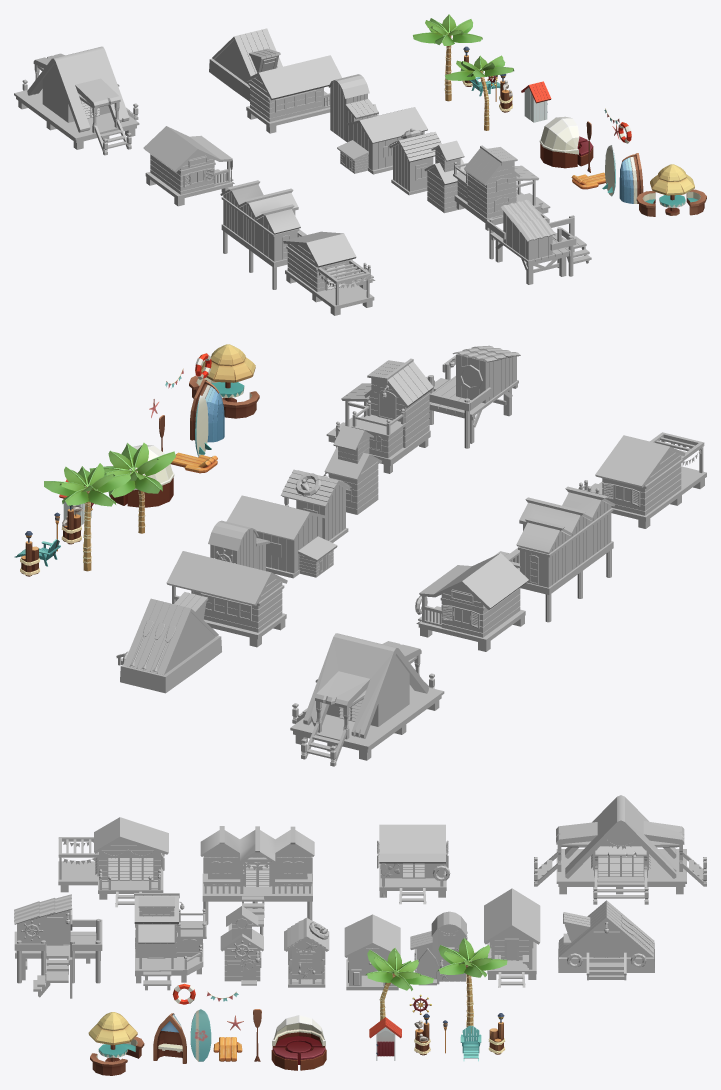
File: uploads_files_2542915_Beach_02 (1).fbx
The picture shows the model from 3 angles, top to bottom: view 1: azimuth 30°, elevation 25°; view 2: azimuth 150°, elevation 25°; view 3: azimuth 270°, elevation 25°; orthographic projection. The views are drawn at different scales.
Parts seen in each view (by area): view 1: House_10, House_12, House_11, House_01, House_03, House_09, House_02, House_04, House_08, House_05, Misc_01_1, House_06 (+7 smaller); view 2: House_10, House_12, House_11, House_09, House_08, House_02, House_03, House_01, House_04, House_07, House_05, Misc_01_1 (+7 smaller); view 3: House_10, House_12, House_11, House_01, House_08, House_02, House_09, House_03, House_04, House_05, House_07, Misc_01_9 (+11 smaller).
Part boxes in pixels (x1,y1,x2,y2): House_10: (14, 46, 139, 155); House_12: (220, 180, 306, 289); House_11: (283, 231, 375, 315); House_01: (486, 199, 591, 284); House_03: (245, 55, 341, 133); House_09: (143, 126, 234, 206); House_02: (453, 145, 550, 230); House_04: (337, 107, 427, 174); House_08: (209, 28, 282, 101); House_05: (388, 128, 441, 195); Misc_01_1: (636, 164, 706, 216); House_06: (328, 74, 378, 142); House_10: (290, 633, 444, 766); House_12: (494, 486, 615, 622); House_11: (578, 432, 706, 528); House_09: (415, 553, 528, 651); House_08: (116, 592, 221, 693); House_02: (326, 358, 433, 473); House_03: (166, 551, 287, 647); House_01: (426, 345, 520, 448); House_04: (226, 495, 337, 578); House_07: (323, 425, 381, 514); House_05: (280, 469, 351, 542); Misc_01_1: (189, 344, 259, 418); House_10: (534, 795, 706, 904); House_12: (200, 826, 314, 935); House_11: (58, 817, 168, 907); House_01: (14, 894, 102, 998); House_08: (558, 900, 654, 980); House_02: (134, 893, 206, 990); House_09: (377, 824, 450, 904); House_03: (484, 888, 540, 987); House_04: (344, 914, 400, 990); House_05: (284, 917, 329, 987); House_07: (220, 906, 263, 985); Misc_01_9: (271, 1015, 326, 1070).
Bounding box in the file's own units: 76.66 × 18.68 × 105.
